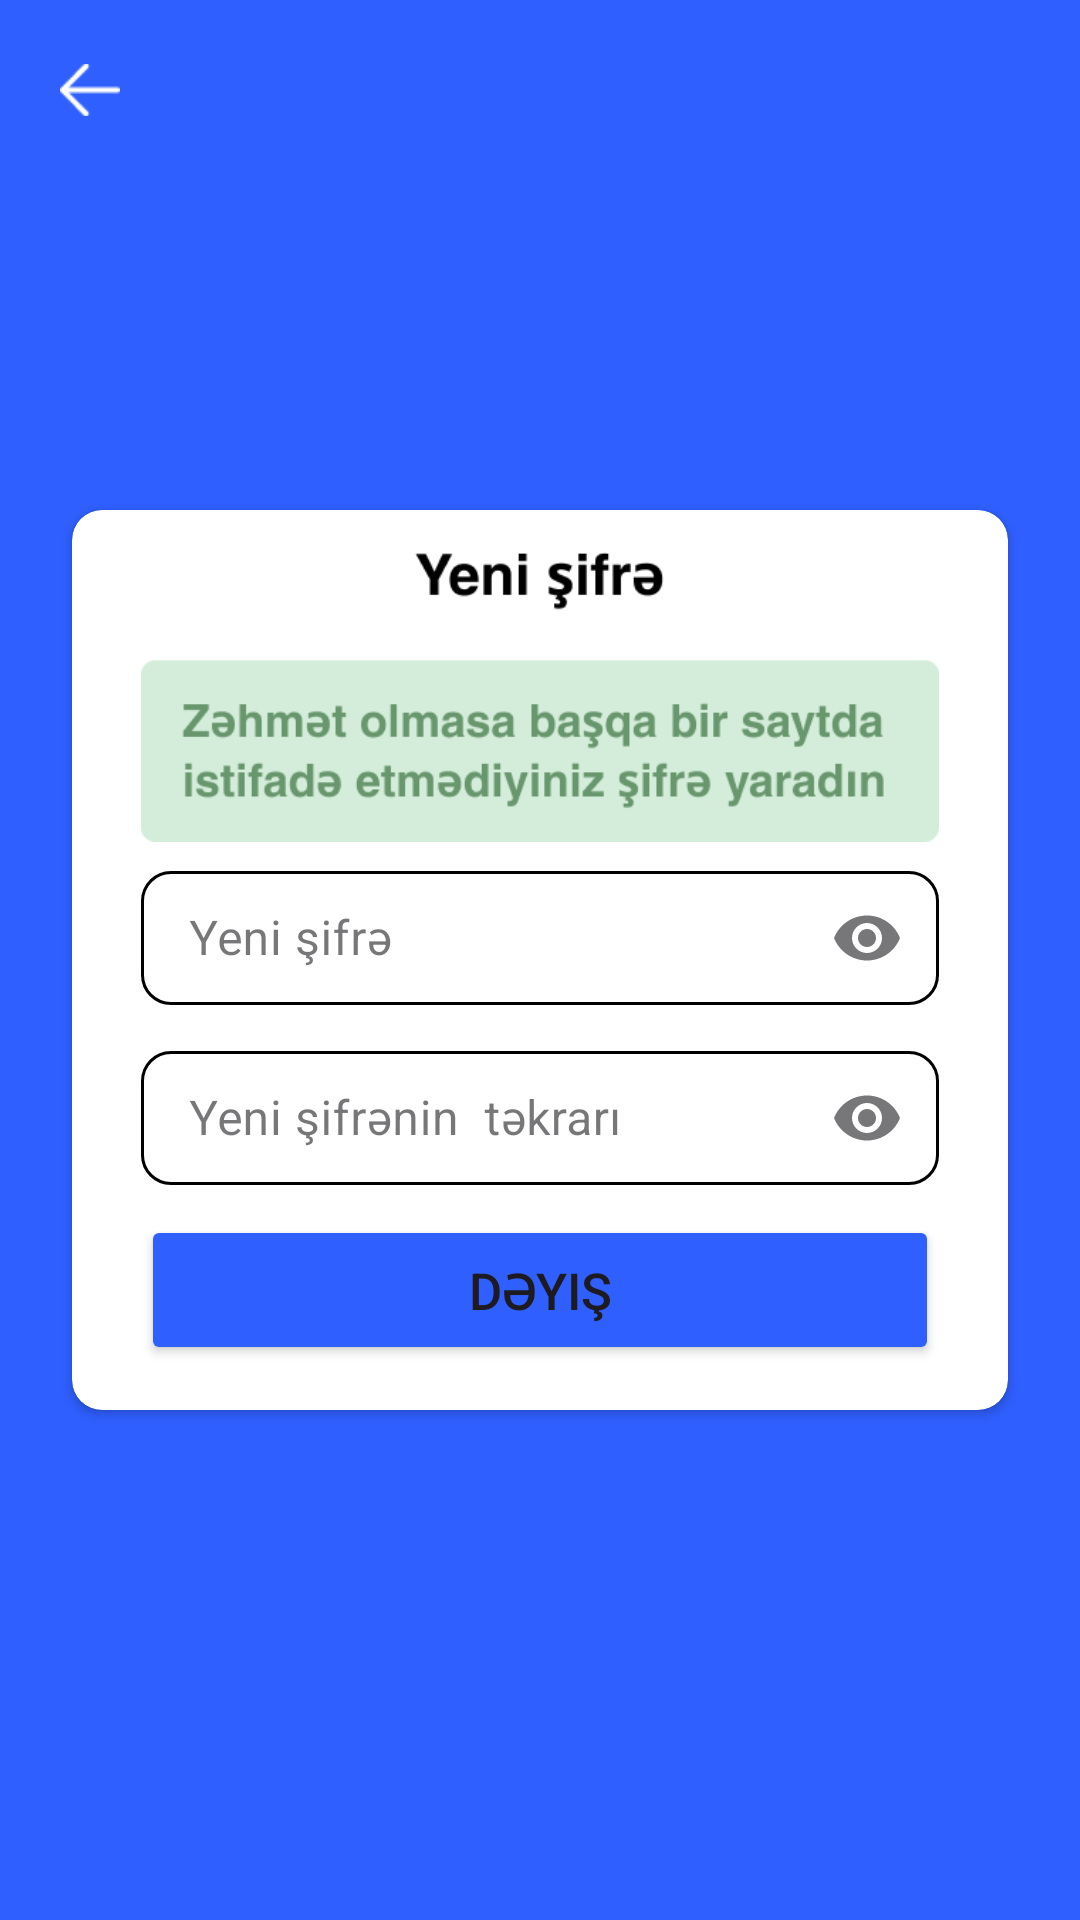

Icon click points for this 1080px×1920px phone screenshot, format (x=x, y=y):
backarrow: (x=90, y=90)
